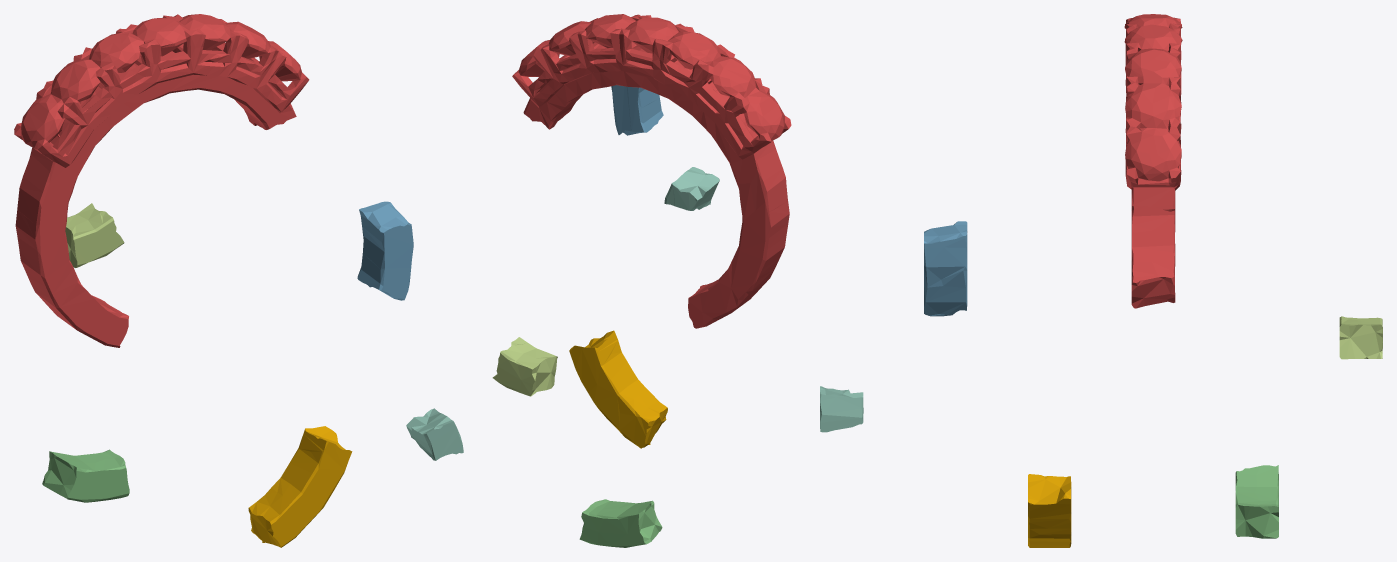
File: fractured_55_6pcs_transformed.glb
3 renders of one model, left to right at view 1: azimuth 30°, elevation 25°; view 2: azimuth 150°, elevation 25°; view 3: azimuth 270°, elevation 25°, orthographic. The views are drawn at different scales.
Visible parts, largest first — view 1: piece_1.obj, piece_0.obj, piece_2.obj, piece_3.obj, piece_5.obj, piece_4.obj; view 2: piece_1.obj, piece_0.obj, piece_3.obj, piece_5.obj, piece_2.obj, piece_4.obj; view 3: piece_1.obj, piece_2.obj, piece_0.obj, piece_3.obj, piece_5.obj, piece_4.obj.
Boxes of the visible parts, x1,y1,x2,y2 form: piece_1.obj: (14, 14, 309, 347); piece_0.obj: (248, 426, 352, 547); piece_2.obj: (357, 201, 413, 300); piece_3.obj: (42, 449, 129, 502); piece_5.obj: (65, 203, 124, 267); piece_4.obj: (406, 408, 463, 460); piece_1.obj: (512, 14, 791, 328); piece_0.obj: (569, 330, 667, 448); piece_3.obj: (579, 499, 662, 547); piece_5.obj: (492, 337, 557, 396); piece_2.obj: (611, 85, 663, 135); piece_4.obj: (664, 167, 719, 210); piece_1.obj: (1124, 14, 1182, 308); piece_2.obj: (924, 221, 967, 316); piece_0.obj: (1028, 474, 1071, 547); piece_3.obj: (1235, 465, 1278, 538); piece_5.obj: (1339, 316, 1382, 359); piece_4.obj: (820, 386, 863, 432).
Size of the model in its own units: 0.91 by 1.6 by 1.63.
